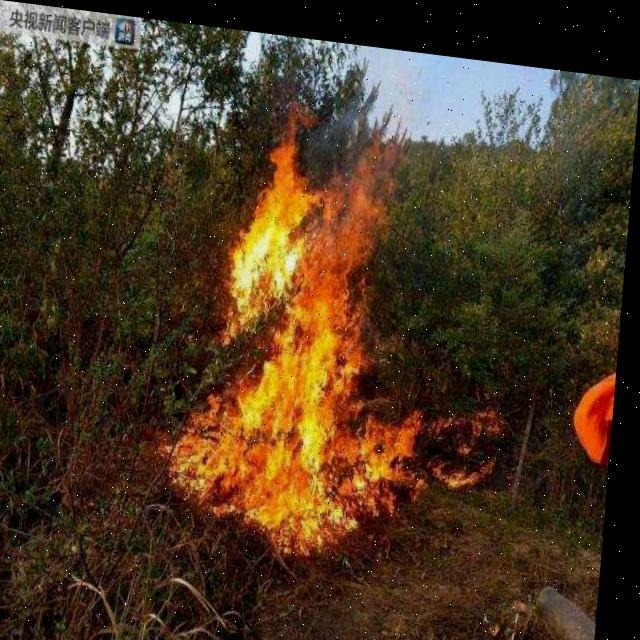Fire: (167, 94, 528, 562)
